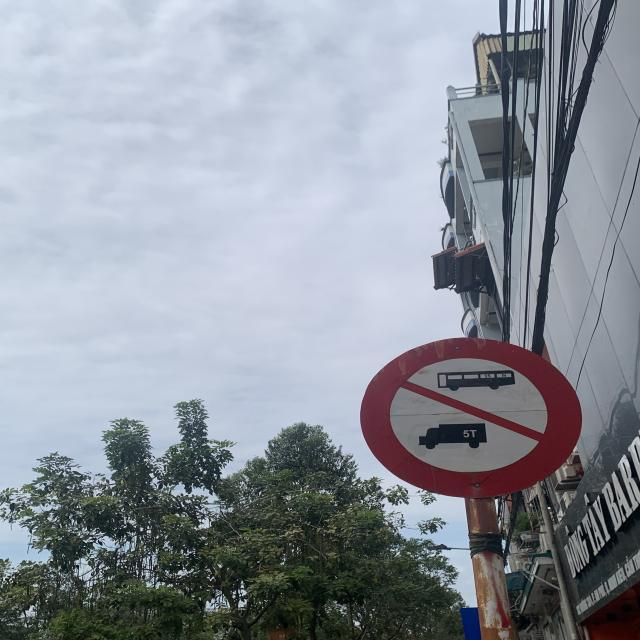Cam_XeTai_XeKhach: (361, 335, 586, 501)
